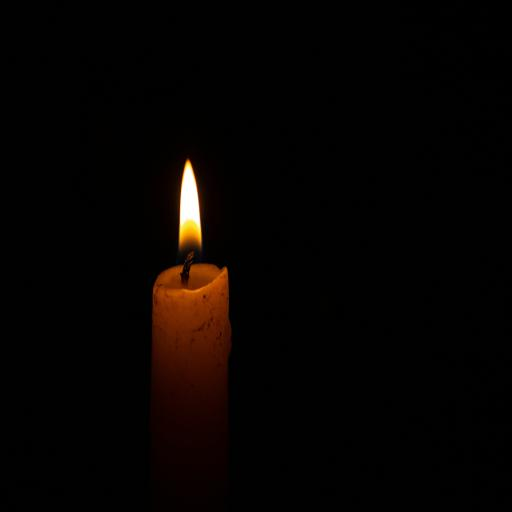candlelight: (141, 107, 253, 504)
